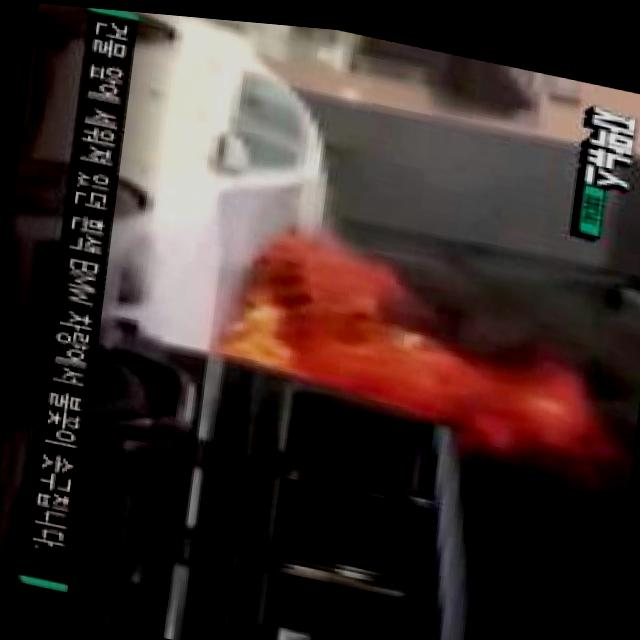helmet: (214, 201, 640, 482)
